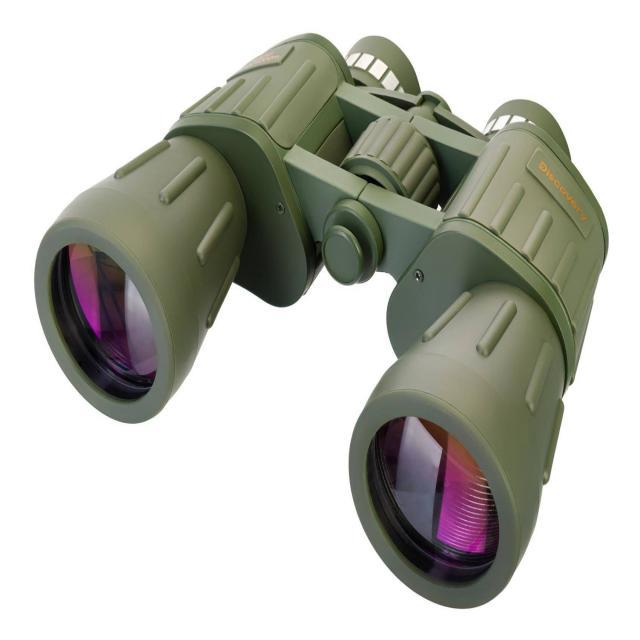Binocular: (32, 27, 614, 613)
